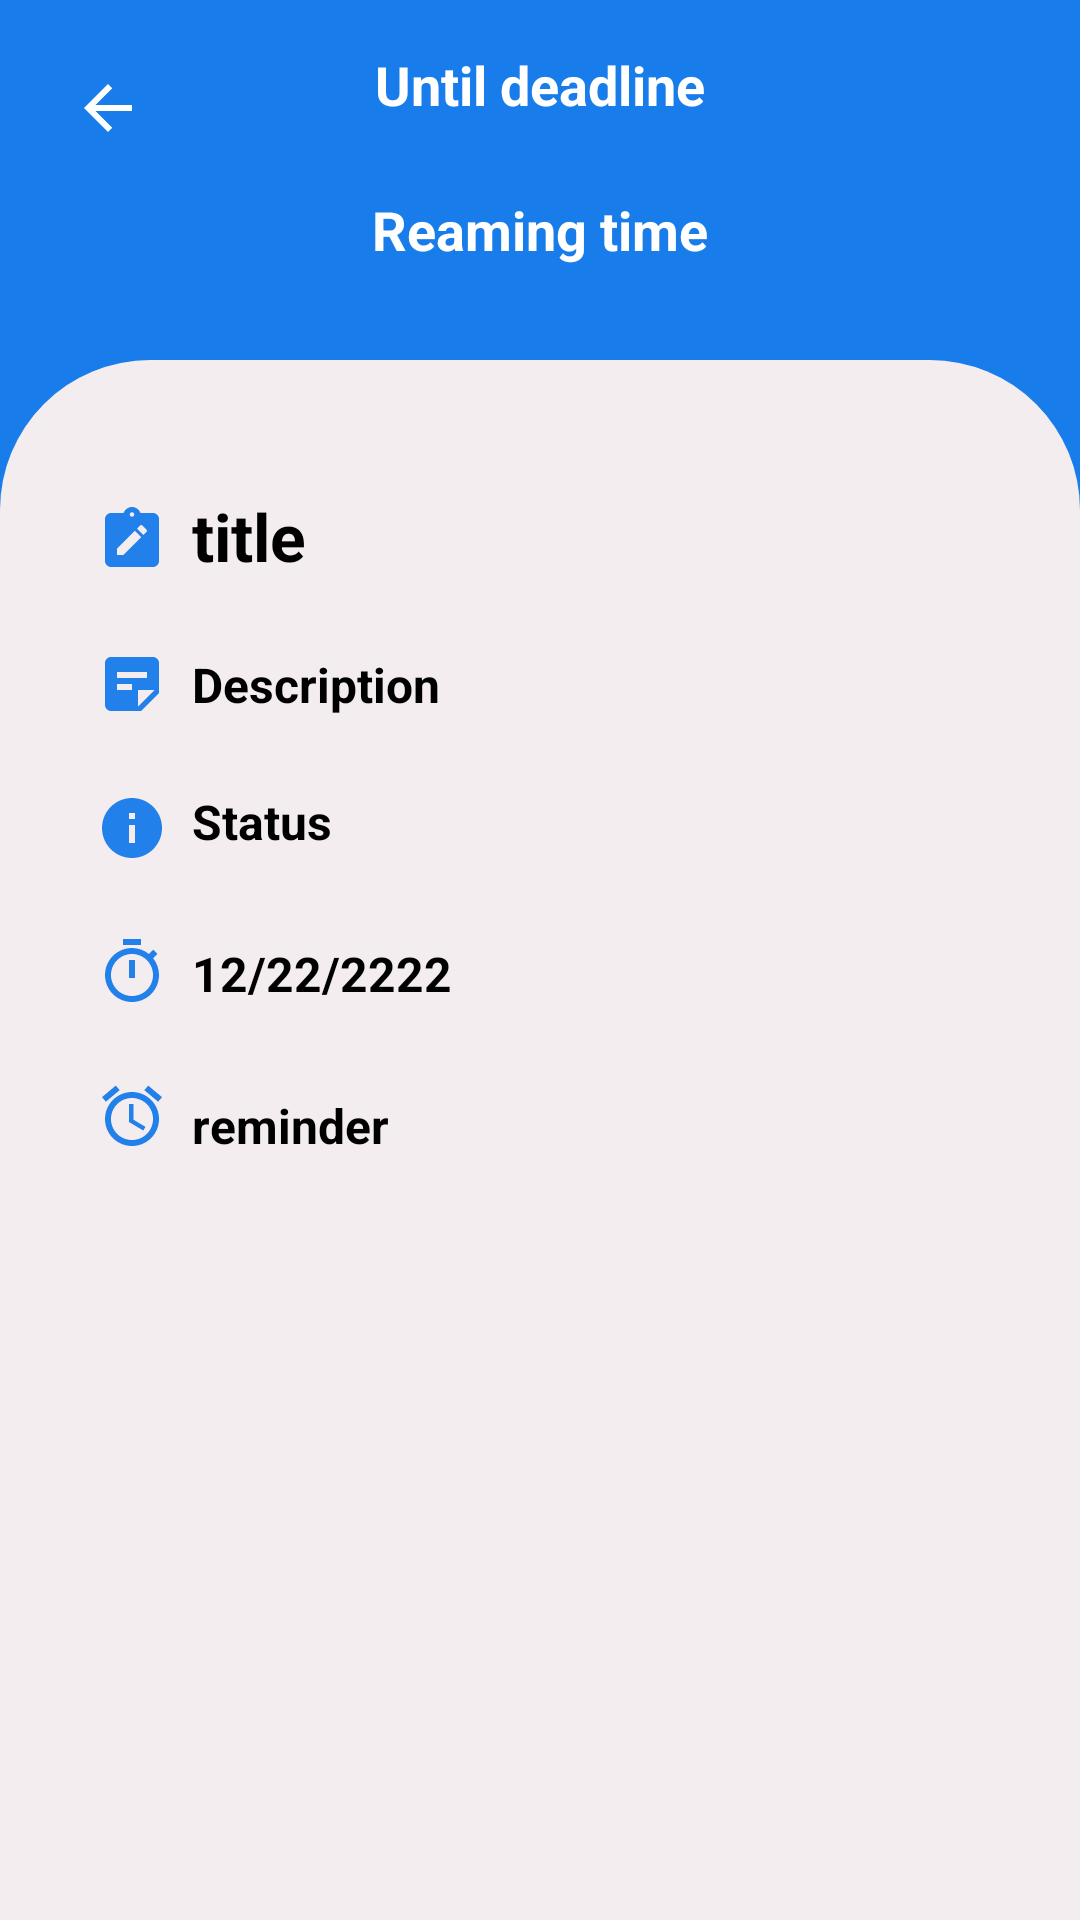

Icons on this 1080px×1920px Android screen, each with its box as [x1,y1,x2,y2]:
alarm: [102,1085,162,1146]
back: [84,84,132,132]
info: [102,798,162,858]
timer: [105,939,159,1002]
